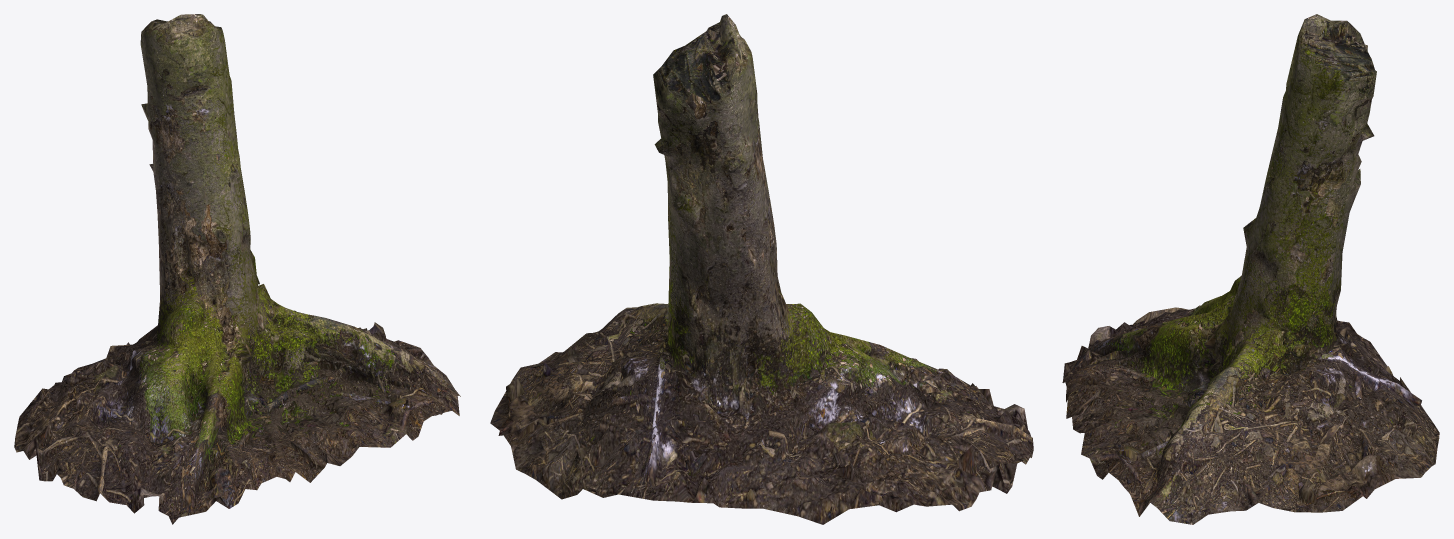
File: PX_Stump_12_LOD4.fbx
3 views of the same model, side by side, from view 1: azimuth 30°, elevation 25°; view 2: azimuth 150°, elevation 25°; view 3: azimuth 270°, elevation 25° (orthographic). The views are drawn at different scales.
Visible parts, largest first — view 1: PX_Stump_12_LOD4; view 2: PX_Stump_12_LOD4; view 3: PX_Stump_12_LOD4.
Boxes of the visible parts, box(x1,y1,x2,y2) form: PX_Stump_12_LOD4: box(14, 14, 460, 524); PX_Stump_12_LOD4: box(490, 14, 1033, 524); PX_Stump_12_LOD4: box(1062, 14, 1439, 524).
Bounding box in the file's own units: 116 × 110 × 90.67.
